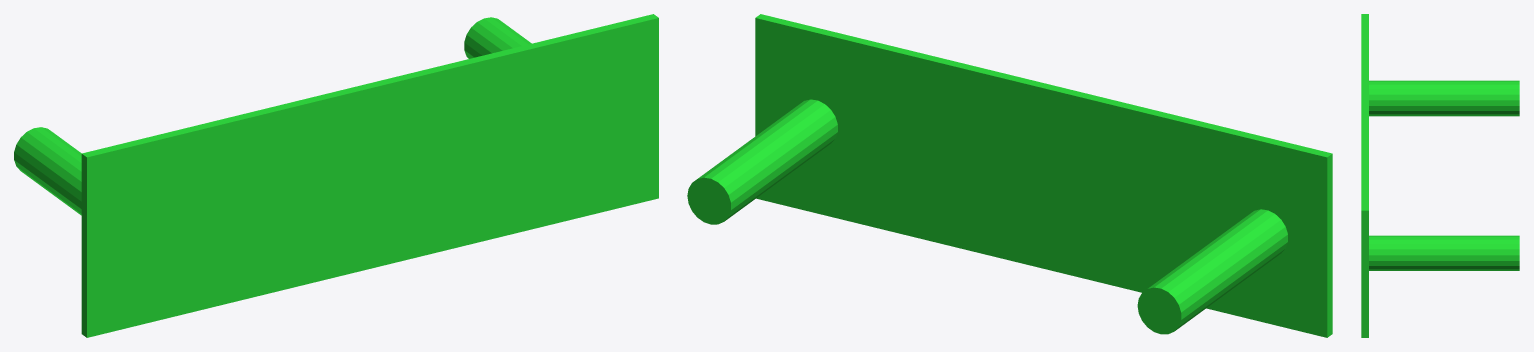
The model's file is Silla.glb.
3 renders of one model, left to right at view 1: azimuth 30°, elevation 25°; view 2: azimuth 150°, elevation 25°; view 3: azimuth 270°, elevation 25°, orthographic. The views are drawn at different scales.
Parts seen in each view (by area): view 1: Silla; view 2: Silla; view 3: Silla.
Part boxes in pixels (x1,y1,x2,y2): Silla: (14,14,658,337); Silla: (687,14,1332,337); Silla: (1361,14,1519,337).
Size of the model in its own units: 9.27 by 2.8 by 3.15.
